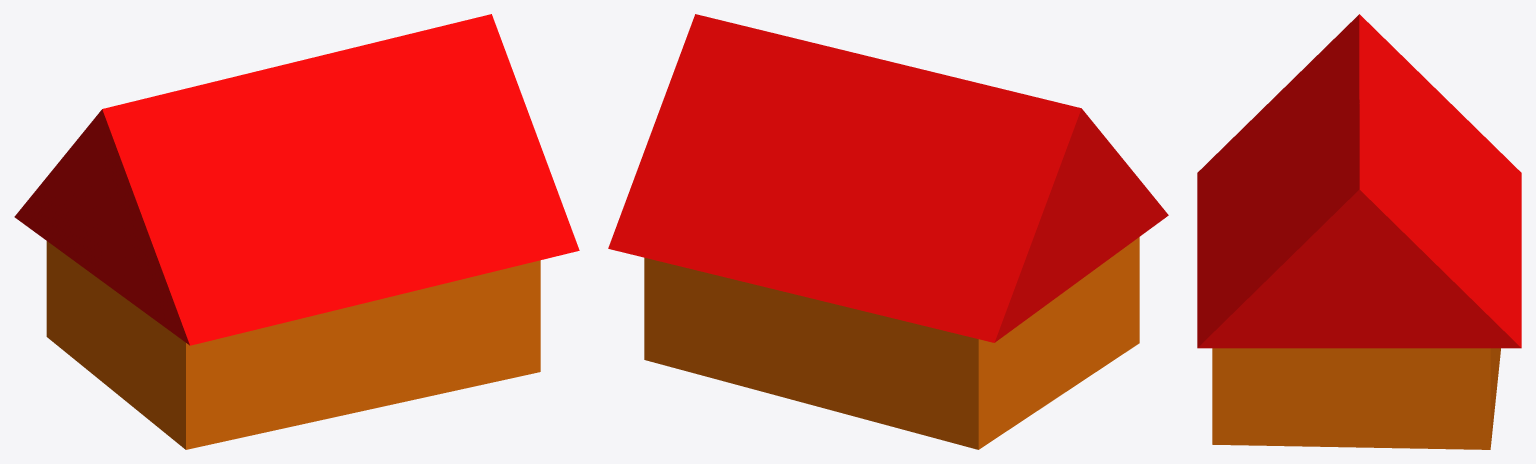
Rendered from House.fbx.
3 views of the same model, side by side, from view 1: azimuth 30°, elevation 25°; view 2: azimuth 150°, elevation 25°; view 3: azimuth 270°, elevation 25° (orthographic). The views are drawn at different scales.
Parts seen in each view (by area): view 1: Cube.002, Cube.001; view 2: Cube.002, Cube.001; view 3: Cube.002, Cube.001.
Boxes of the visible parts, box(x1,y1,x2,y2) form: Cube.002: box(14, 14, 579, 345); Cube.001: box(46, 241, 540, 449); Cube.002: box(608, 14, 1168, 342); Cube.001: box(644, 237, 1139, 449); Cube.002: box(1197, 14, 1521, 348); Cube.001: box(1212, 348, 1500, 449).
Bounding box in the file's own units: 447 × 320 × 349.
